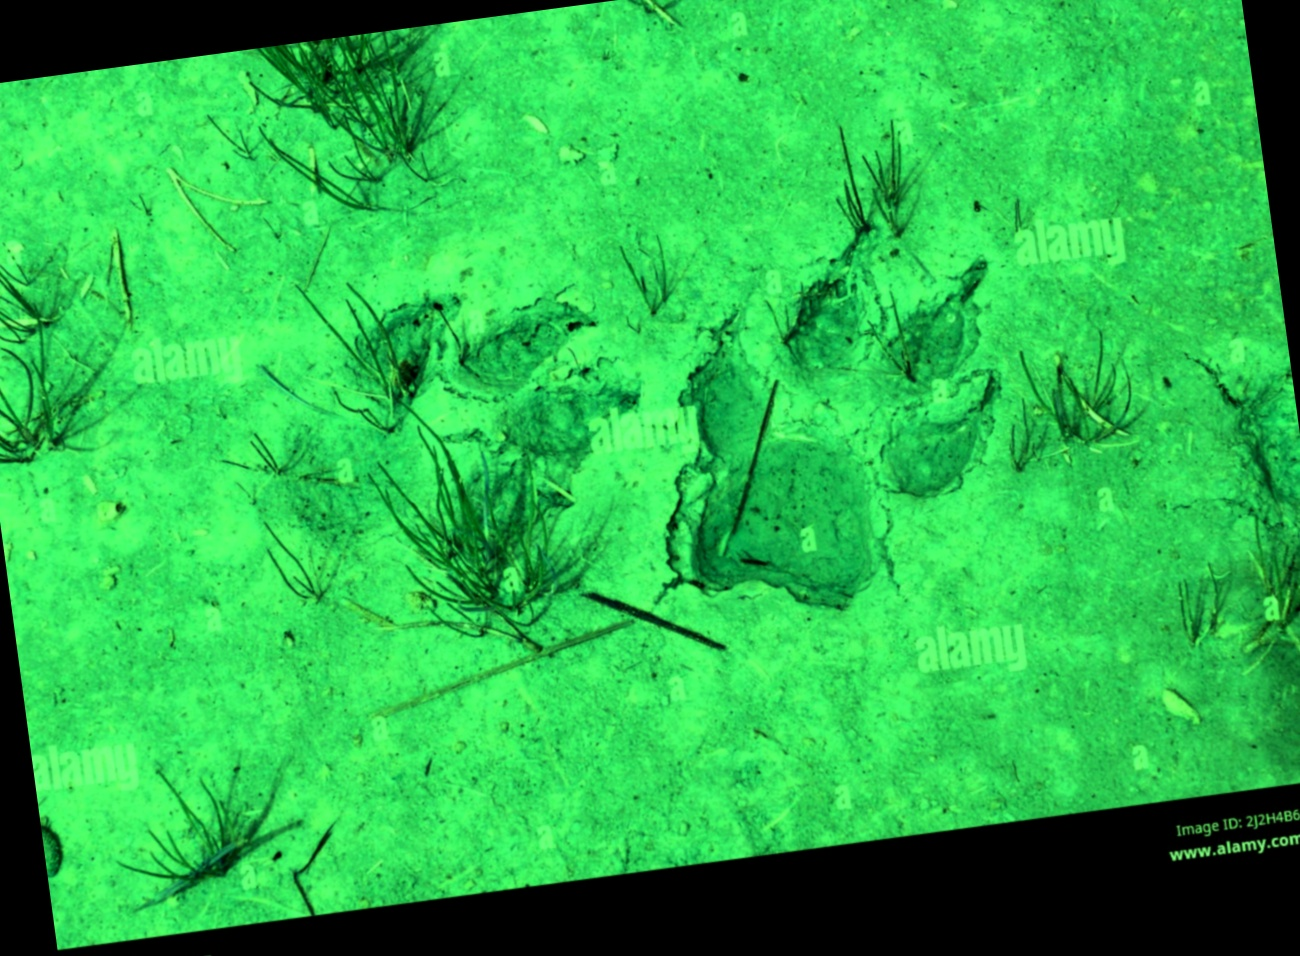loup: (623, 139, 1056, 655), (199, 199, 668, 627)
